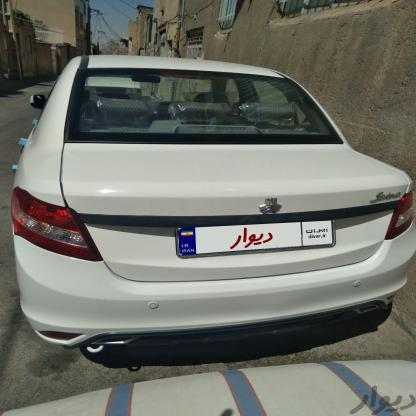Car: (0, 57, 416, 337)
